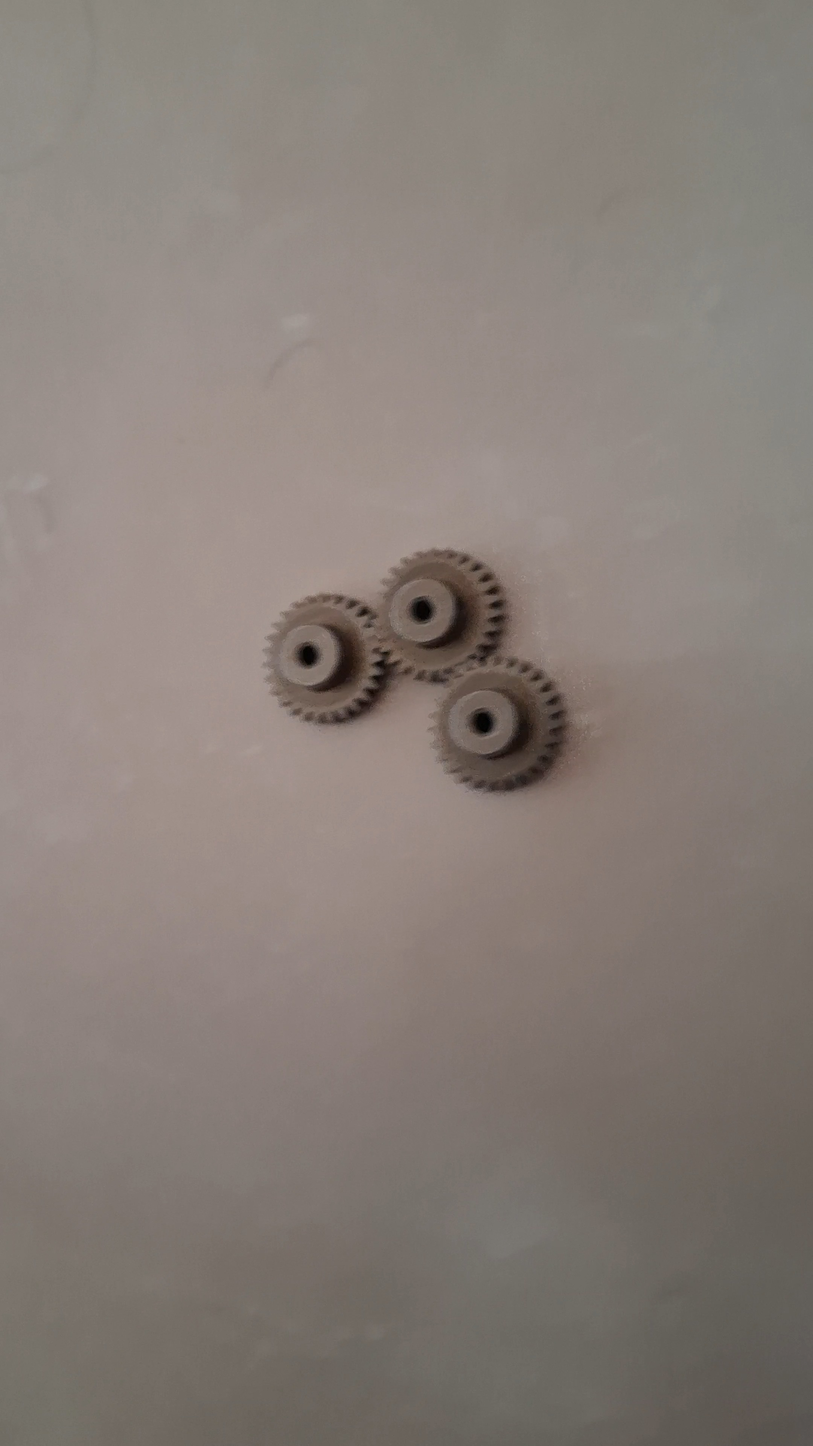spur gear: (433, 658, 565, 790), (379, 549, 505, 682), (265, 594, 386, 723)
